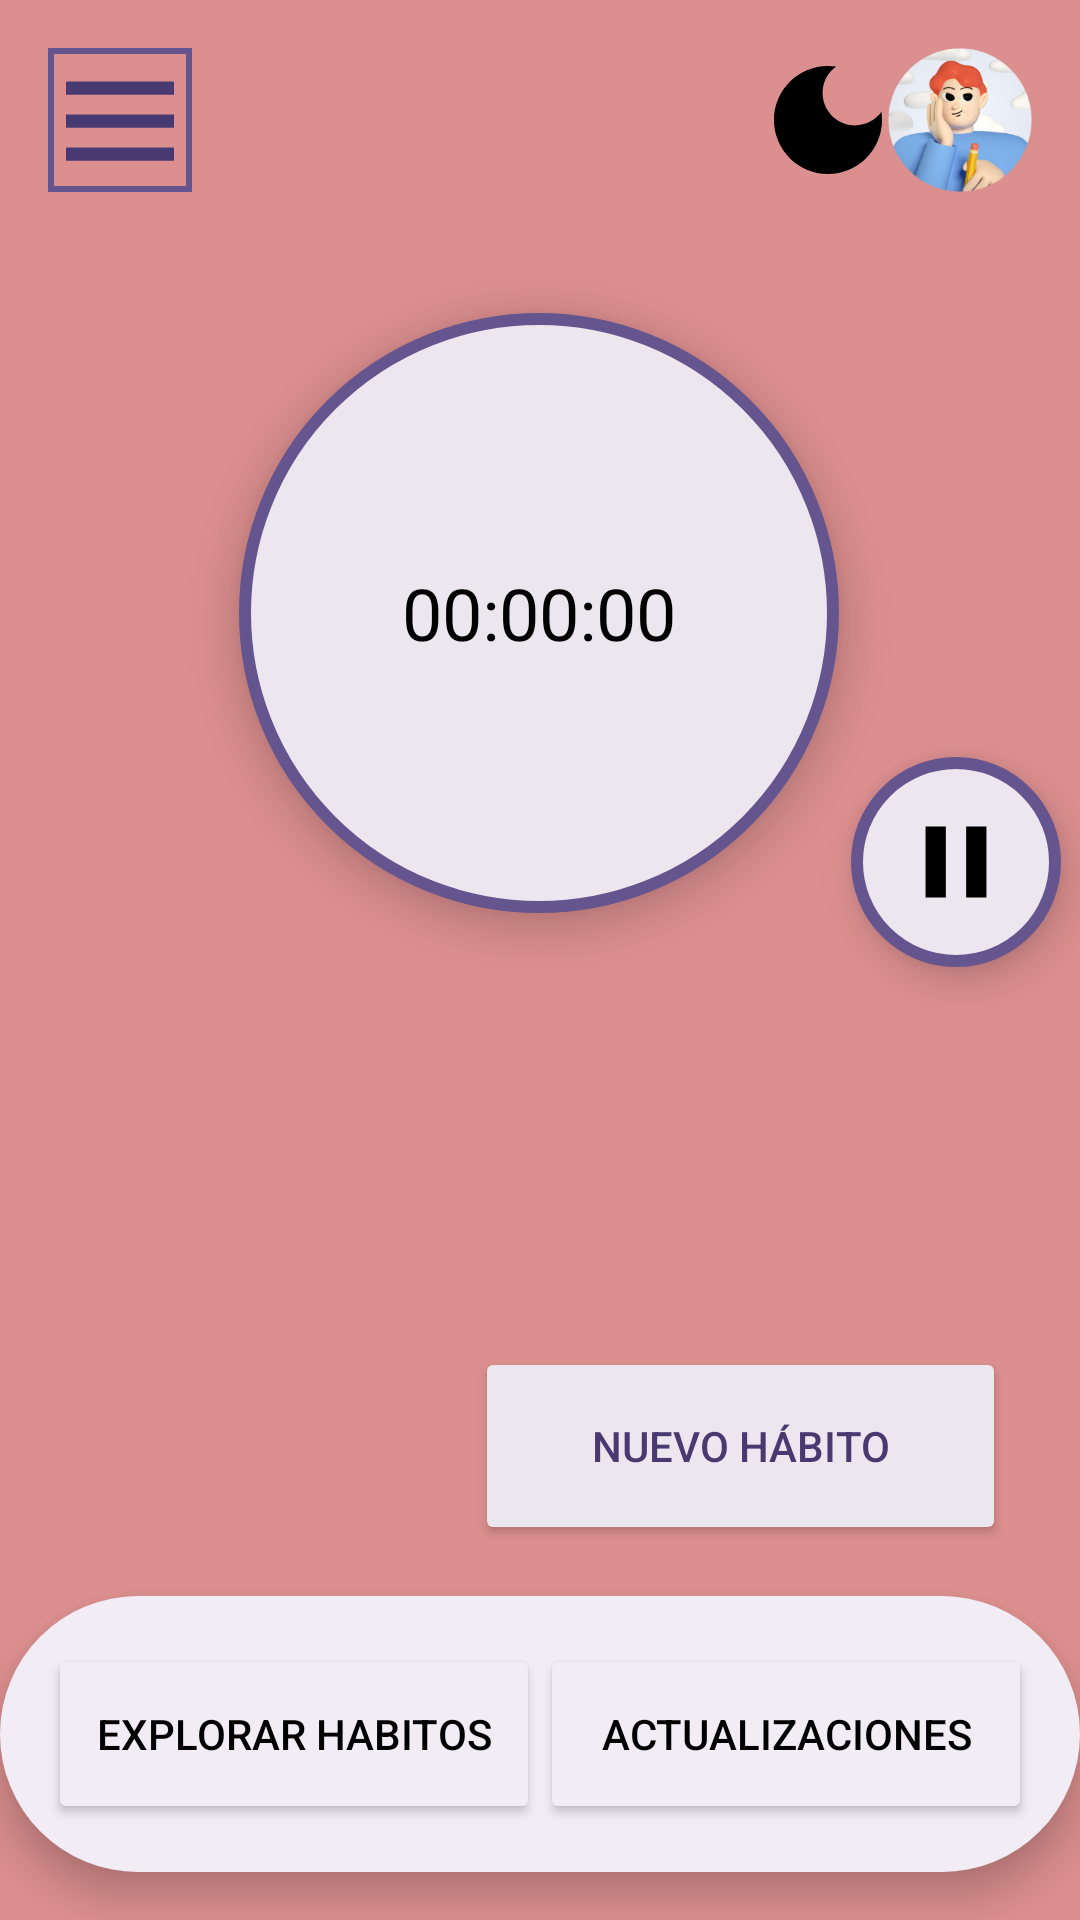

Icon click points for this 1080x1920 phone screenshot, format point (x, y):
Dark Mode Toggle: point (828, 120)
Menu Icon: point (120, 120)
pause: point (956, 862)
profile: point (960, 120)
